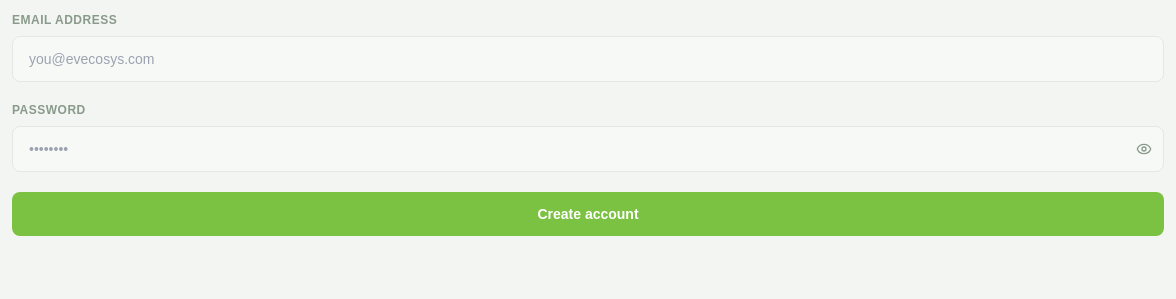
Test: SignupForm › shows error message on signup failure
Type "taken@example.com" into the field with placeholder "you@evecosys.com" at (588, 59), box 12,36 -> 1164,82
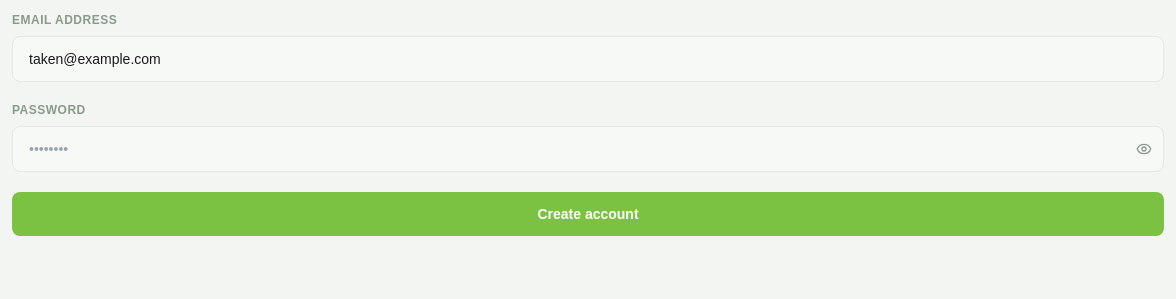
Type "password123" into the password field with placeholder "••••••••" at (588, 149), box 12,126 -> 1164,172
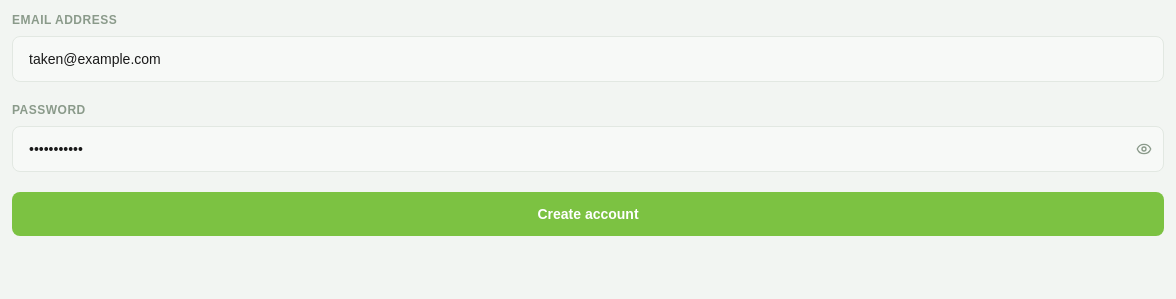
Click the button "Create account" at (588, 214), box 12,192 -> 1164,236
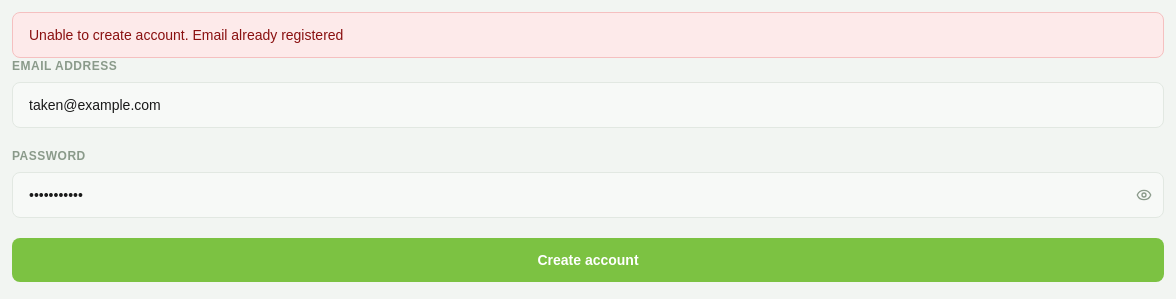
Check: the text "Unable to create account. Email already registered" is shown, box 12,12 -> 1164,58
